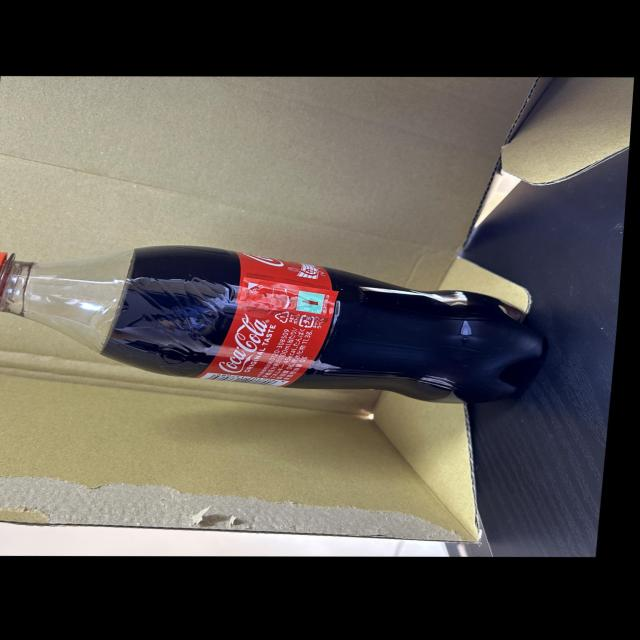high: (0, 245, 542, 403)
